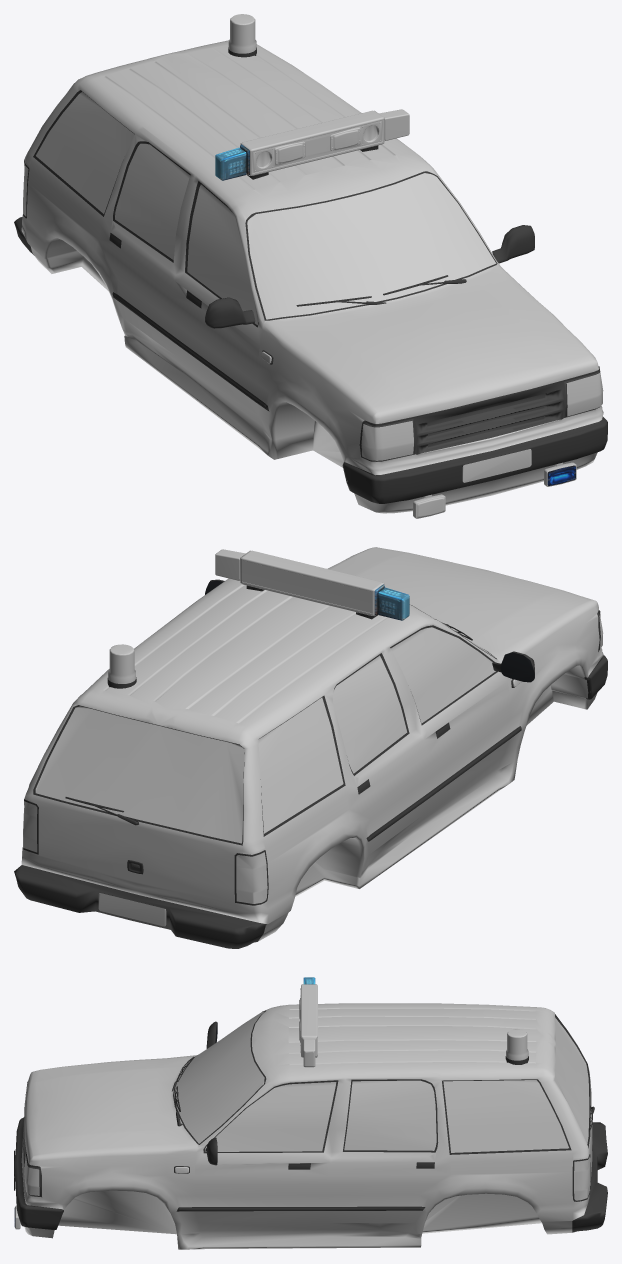
Rendered from einsatzleitfahrzeug_florian1.fbx.
3 views of the same model, one above another, from view 1: azimuth 30°, elevation 25°; view 2: azimuth 150°, elevation 25°; view 3: azimuth 270°, elevation 25° (orthographic). The views are drawn at different scales.
Visible parts, largest first — view 1: Mesh; view 2: Mesh; view 3: Mesh.
Boxes of the visible parts, bbox=[...] form: Mesh: bbox=[14, 14, 607, 518]; Mesh: bbox=[14, 547, 607, 948]; Mesh: bbox=[14, 977, 607, 1249].
Size of the model in its own units: 212 by 148 by 413.
